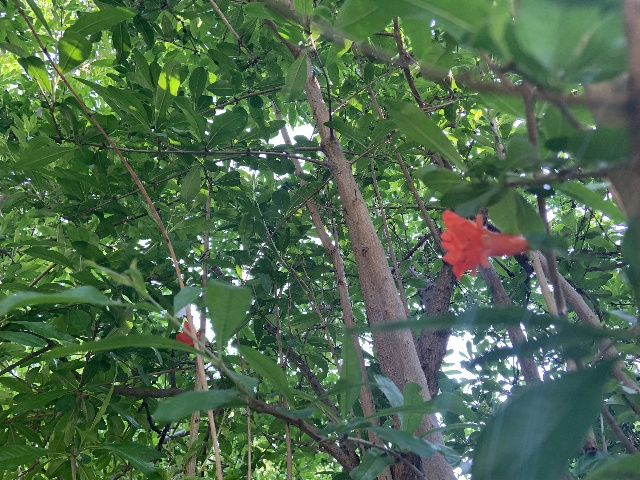flower: (440, 209, 529, 280), (175, 314, 208, 350)
